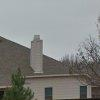Chimney: (20, 28, 57, 76)
